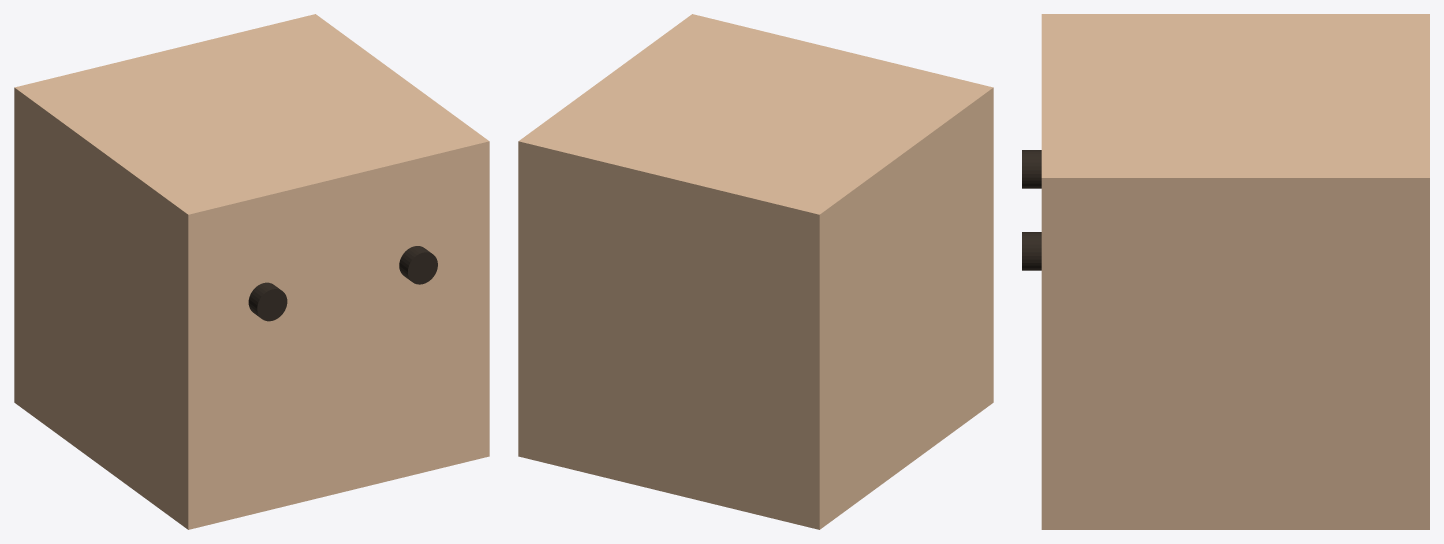
File: Player.fbx
3 views of the same model, side by side, from view 1: azimuth 30°, elevation 25°; view 2: azimuth 150°, elevation 25°; view 3: azimuth 270°, elevation 25° (orthographic). The views are drawn at different scales.
Visible parts, largest first — view 1: Player; view 2: Player; view 3: Player.
Boxes of the visible parts, x1=… form: Player: x1=14, y1=14, x2=489, y2=529; Player: x1=518, y1=14, x2=993, y2=529; Player: x1=1022, y1=14, x2=1429, y2=529.
Bounding box in the file's own units: 200 × 200 × 210.
